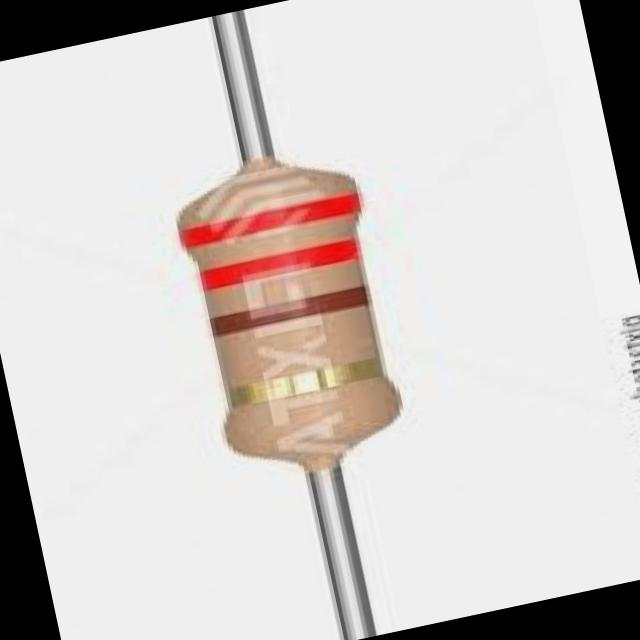Resistor: (178, 156, 399, 471)
brown: (209, 287, 375, 337)
gold: (224, 355, 387, 413)
red: (174, 194, 365, 252), (193, 239, 361, 292)
